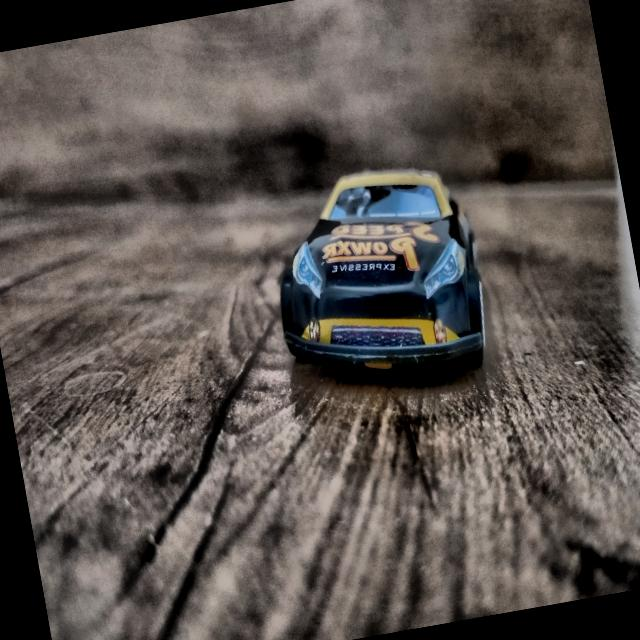Ambulance: (248, 156, 494, 408)
